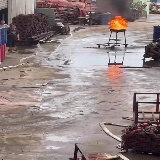fire: (107, 15, 127, 30)
